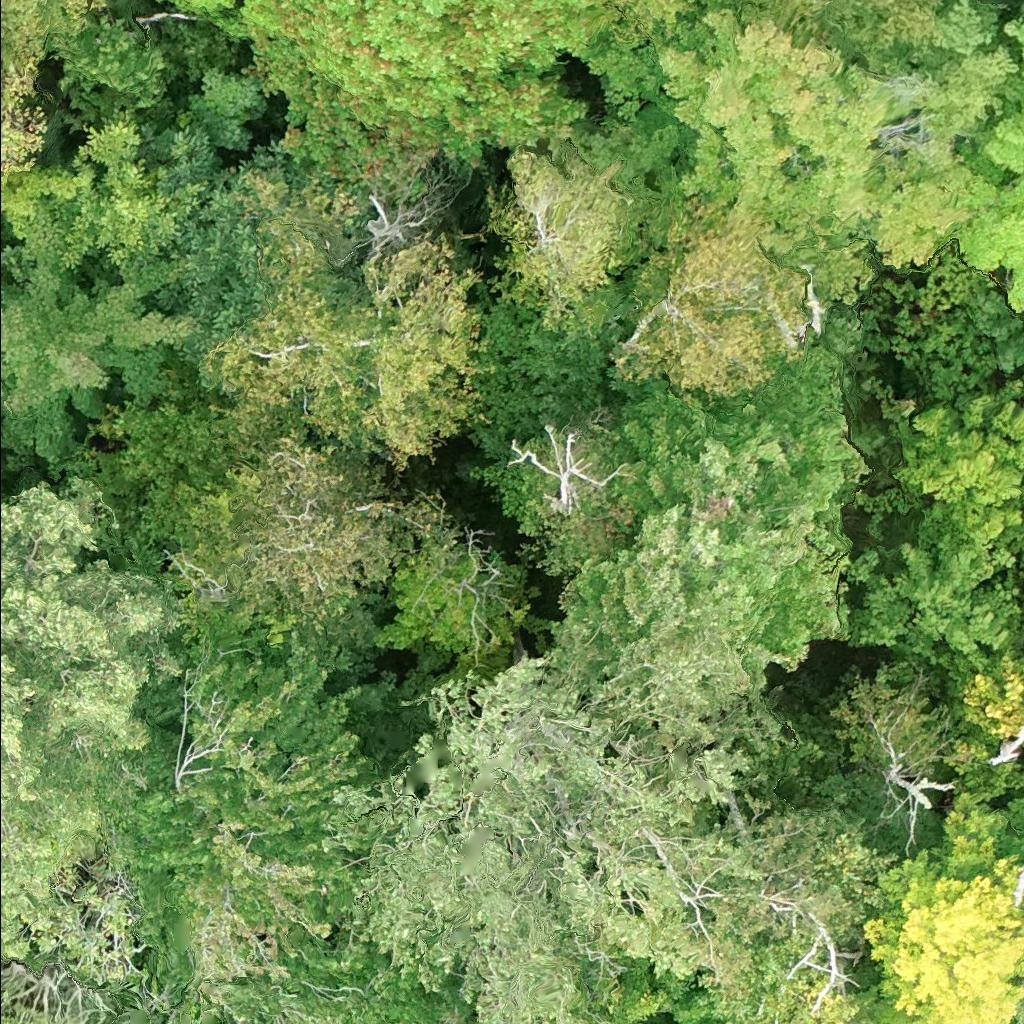crown: (319, 630, 790, 1023), (547, 340, 874, 692), (641, 2, 1021, 304), (133, 593, 386, 980), (0, 474, 183, 979), (200, 171, 492, 473), (214, 0, 622, 197), (0, 260, 204, 472), (610, 194, 811, 409), (228, 428, 451, 616), (859, 787, 1023, 1023), (144, 924, 470, 1023), (485, 140, 634, 332), (845, 512, 1023, 656), (891, 378, 1023, 570), (953, 9, 1023, 316), (870, 664, 959, 856), (41, 15, 182, 107), (612, 0, 839, 40), (940, 644, 1023, 742), (0, 0, 108, 73), (0, 55, 47, 188), (614, 974, 675, 1023), (158, 0, 240, 14), (1013, 1001, 1023, 1023), (1009, 974, 1023, 986)
